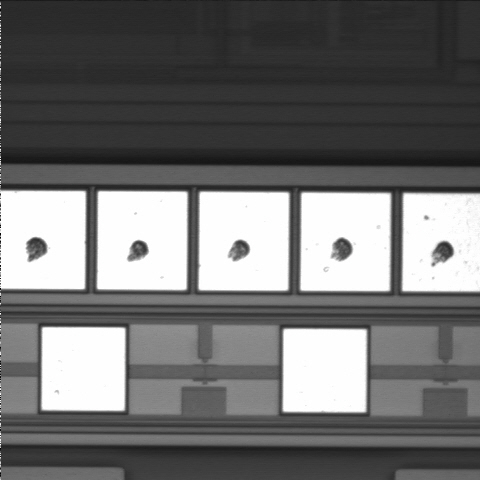pad: (300, 193, 391, 291), (97, 191, 187, 290), (199, 192, 289, 291), (42, 327, 125, 411), (283, 329, 366, 412)
